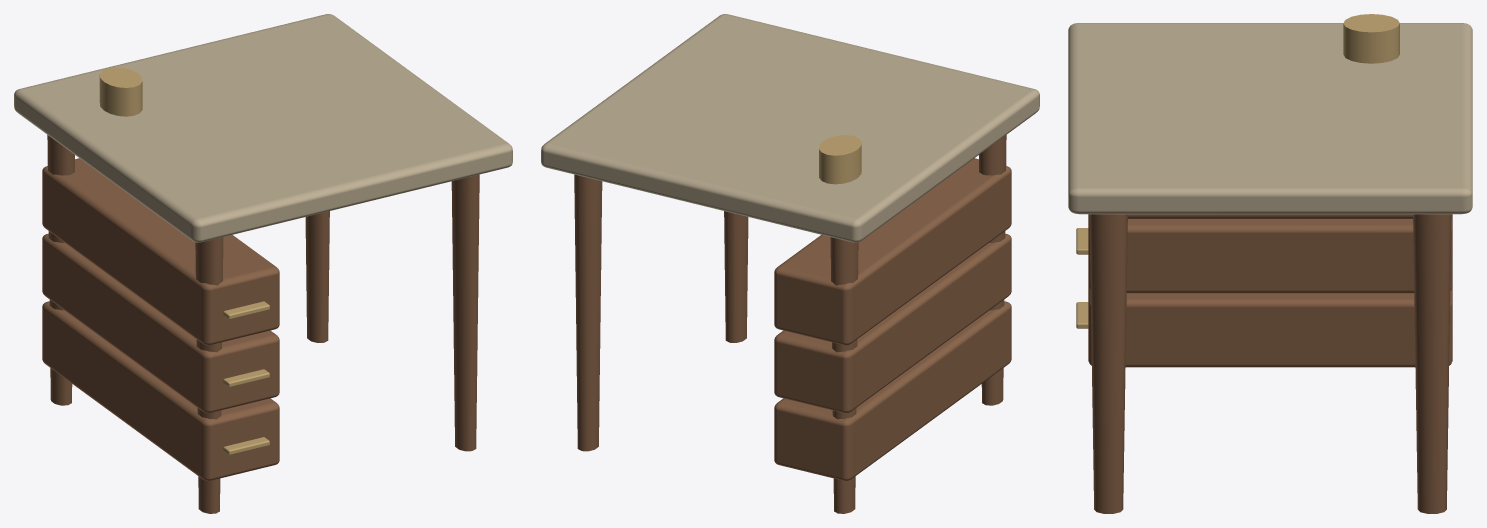
The model's file is classroom-desk.glb.
3 renders of one model, left to right at view 1: azimuth 30°, elevation 25°; view 2: azimuth 150°, elevation 25°; view 3: azimuth 270°, elevation 25°, orthographic. The views are drawn at different scales.
Visible parts, largest first — view 1: upholstery (×2), part; view 2: upholstery (×2), part; view 3: upholstery (×2), part.
Boxes of the visible parts, <box> form: upholstery (×2): <box>14,14,512,455</box>; part: <box>42,135,479,513</box>; upholstery (×2): <box>541,14,1039,242</box>; part: <box>574,135,1011,513</box>; upholstery (×2): <box>1068,14,1472,328</box>; part: <box>1088,214,1452,513</box>.
Bounding box in the file's own units: 1 × 1 × 1.
